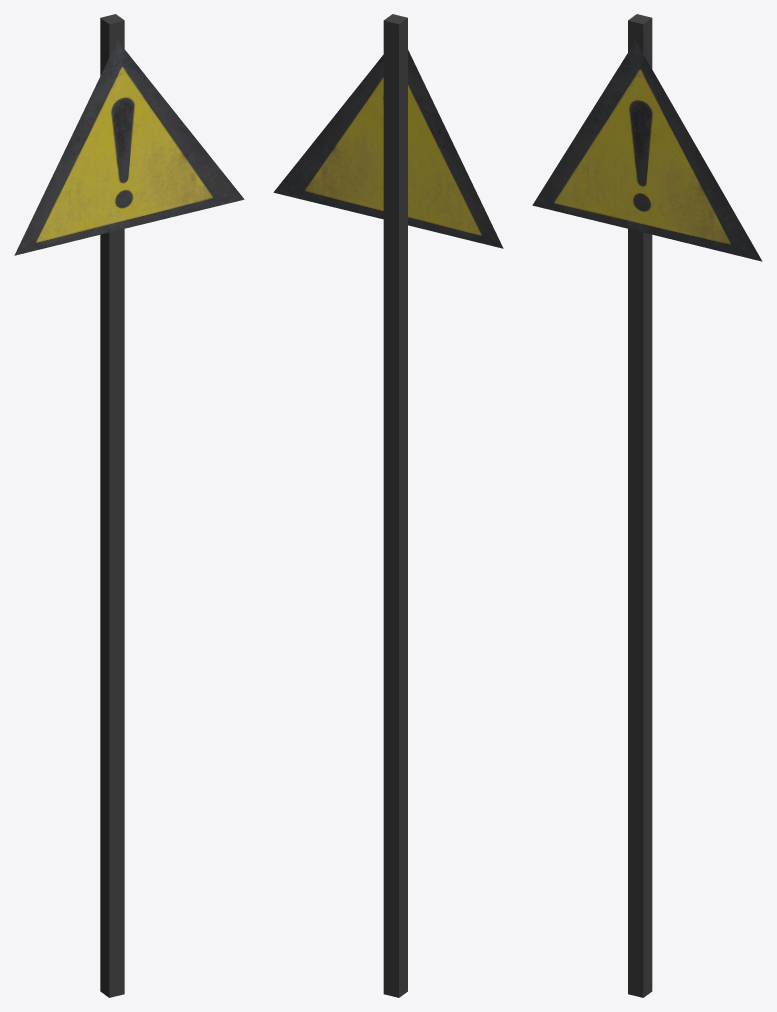
File: Caution Sign.fbx
3 views of the same model, side by side, from view 1: azimuth 30°, elevation 25°; view 2: azimuth 150°, elevation 25°; view 3: azimuth 330°, elevation 25° (orthographic).
Parts seen in each view (by area): view 1: Plane001; view 2: Plane001; view 3: Plane001.
Boxes of the visible parts, x1,y1,x2,y2 form: Plane001: [14, 14, 244, 997]; Plane001: [273, 14, 503, 997]; Plane001: [532, 14, 762, 997].
Size of the model in its own units: 47.25 by 191 by 3.28.
2 materials, 1 textured.
